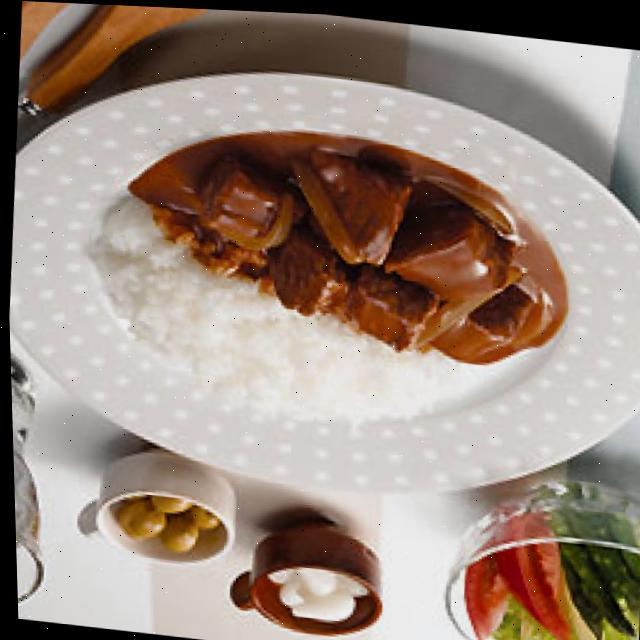牛肉菜式: (59, 89, 610, 466)
